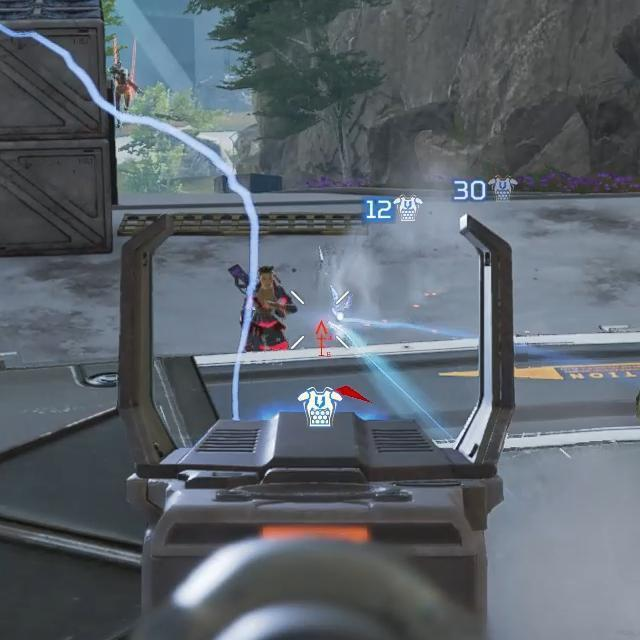avatar: (238, 267, 298, 350), (110, 59, 134, 131)
